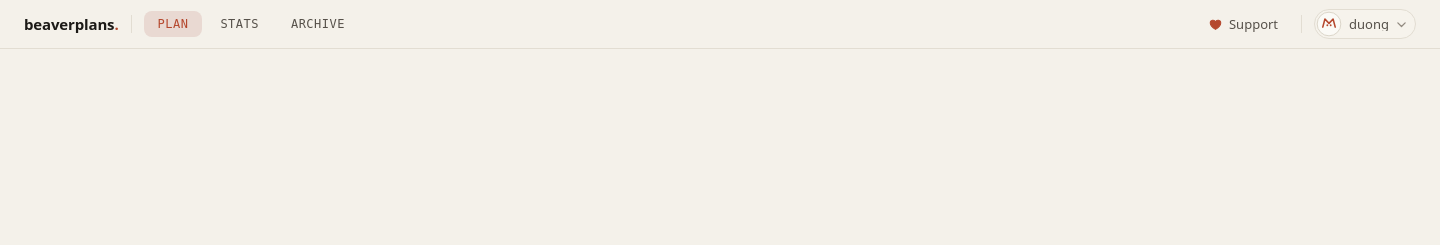
Test: TopBar › the dropdown closes on Escape and on a click outside it
The width and height of the screenshot is (1440, 245).
Click the button with aria-label "you@example.com" at (1365, 24), box [1314, 9, 1416, 39]
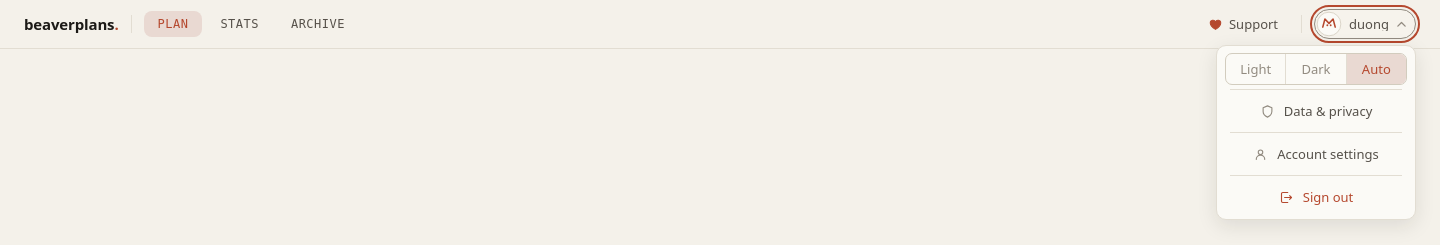
Press Escape
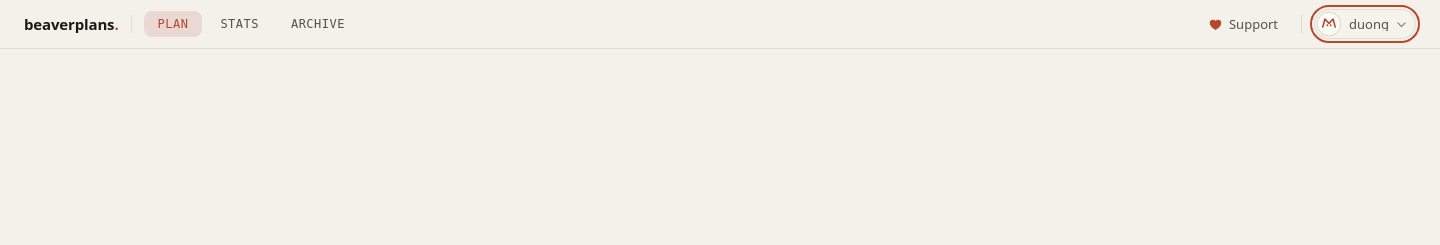
Result: the menu is gone
Click the button with aria-label "you@example.com" at (1365, 24), box [1314, 9, 1416, 39]
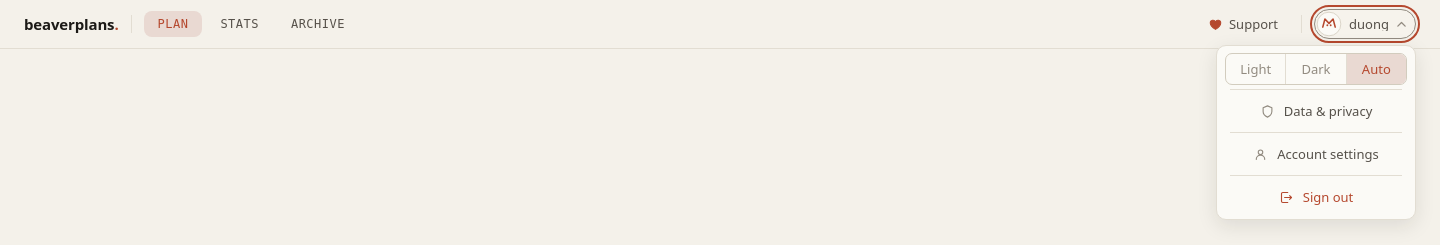
Click the button "stats" at (240, 24), box [206, 11, 273, 37]
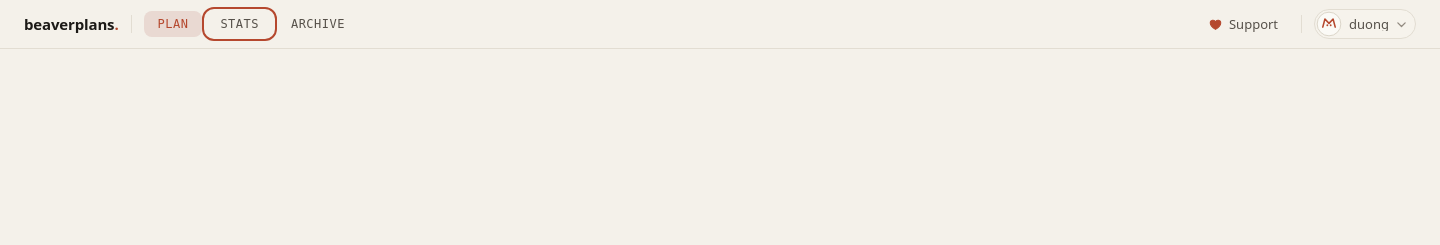
Result: the menu is gone
